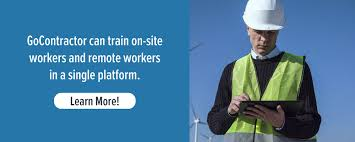helmet: (243, 1, 288, 30)
vest: (231, 58, 311, 142)
